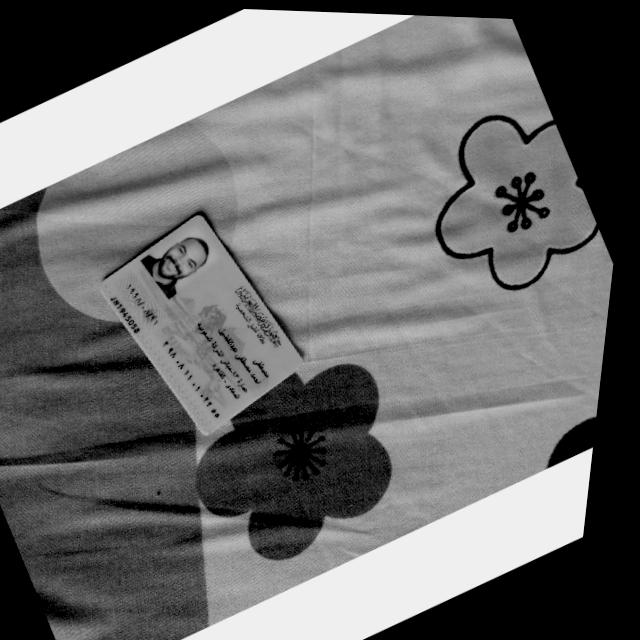id_card: (99, 214, 301, 433)
